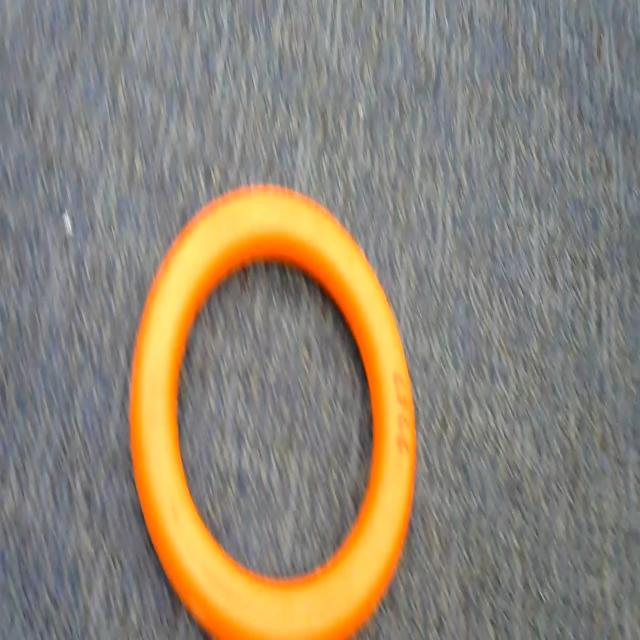note: (118, 176, 424, 640)
